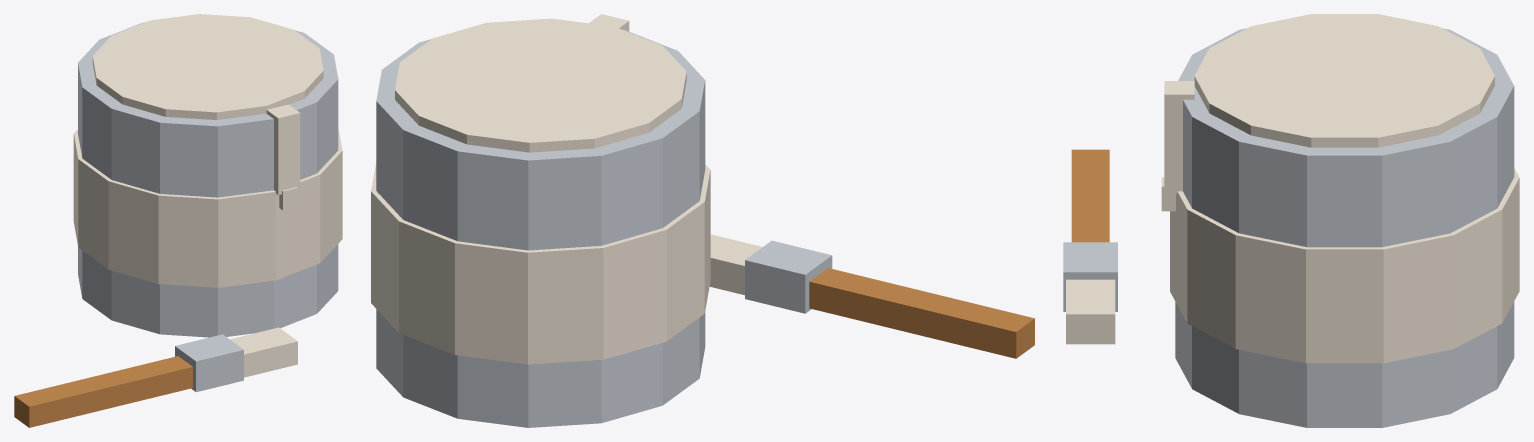
The model's file is CatCafe_Style_TrophyGold.glb.
The picture shows the model from 3 angles, left to right: view 1: azimuth 30°, elevation 25°; view 2: azimuth 150°, elevation 25°; view 3: azimuth 270°, elevation 25°; orthographic projection. The views are drawn at different scales.
Visible parts, largest first — view 1: CatCafe_Style_TrophyGold_Swatch, CatCafe_Style_TrophyGold; view 2: CatCafe_Style_TrophyGold_Swatch, CatCafe_Style_TrophyGold; view 3: CatCafe_Style_TrophyGold_Swatch, CatCafe_Style_TrophyGold.
Boxes of the visible parts, box(x1,y1,x2,y2) form: CatCafe_Style_TrophyGold_Swatch: box(73, 14, 342, 377); CatCafe_Style_TrophyGold: box(14, 22, 338, 427); CatCafe_Style_TrophyGold_Swatch: box(371, 14, 762, 364); CatCafe_Style_TrophyGold: box(376, 29, 1034, 427); CatCafe_Style_TrophyGold_Swatch: box(1066, 14, 1519, 363); CatCafe_Style_TrophyGold: box(1063, 28, 1514, 427).
Size of the model in its own units: 2.17 by 1.14 by 1.67.
Materials: 1 (1 with a texture image).
